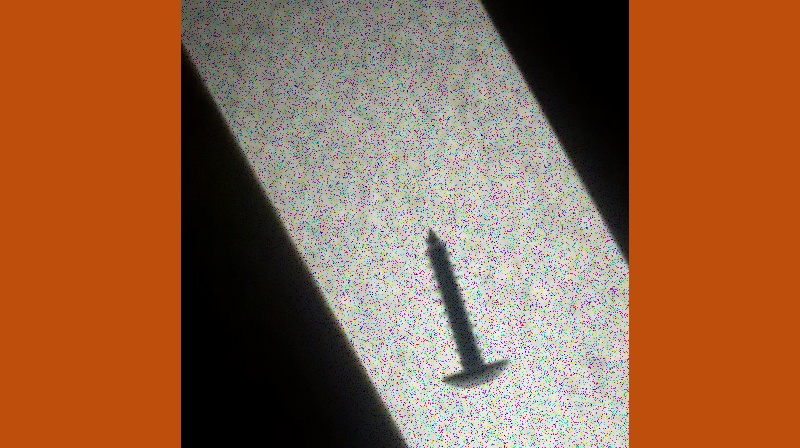S003: (420, 222, 511, 392)
